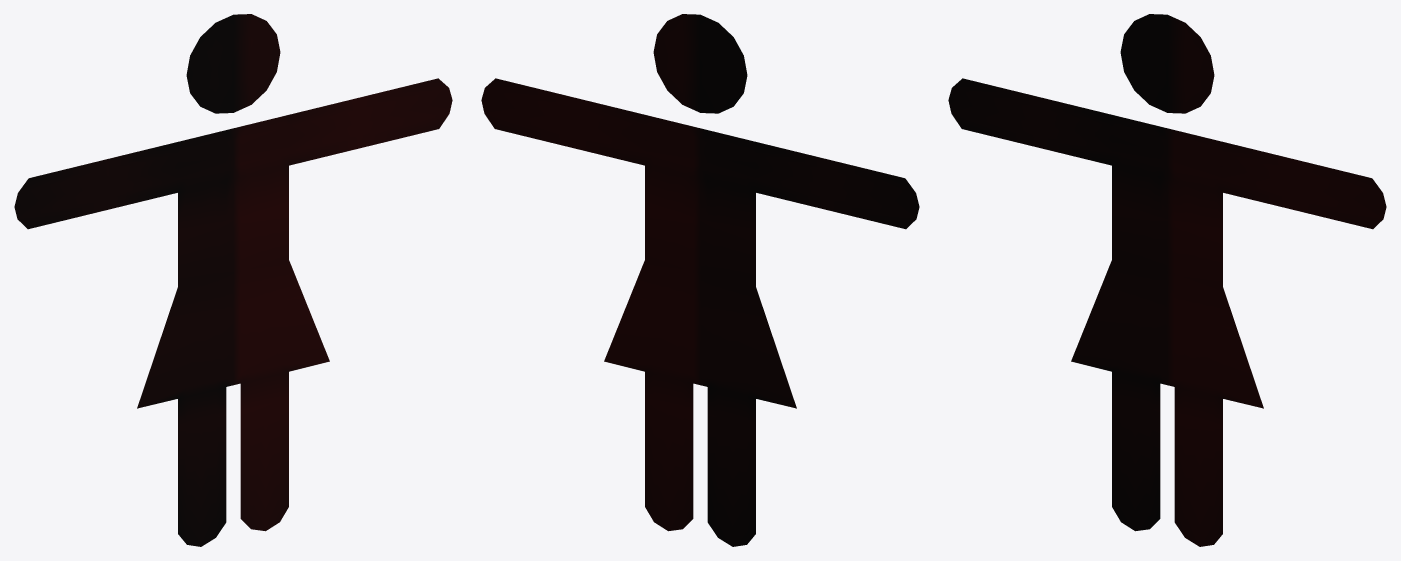
Rendered from pictogram.fbx.
3 renders of one model, left to right at view 1: azimuth 30°, elevation 25°; view 2: azimuth 150°, elevation 25°; view 3: azimuth 330°, elevation 25°, orthographic.
Visible parts, largest first — view 1: bind; view 2: bind; view 3: bind.
Boxes of the visible parts, box(x1,y1,x2,y2) form: bind: box(14, 14, 452, 546); bind: box(481, 14, 919, 546); bind: box(948, 14, 1386, 546).
Size of the model in its own units: 2.63 by 3.01 by 0.
